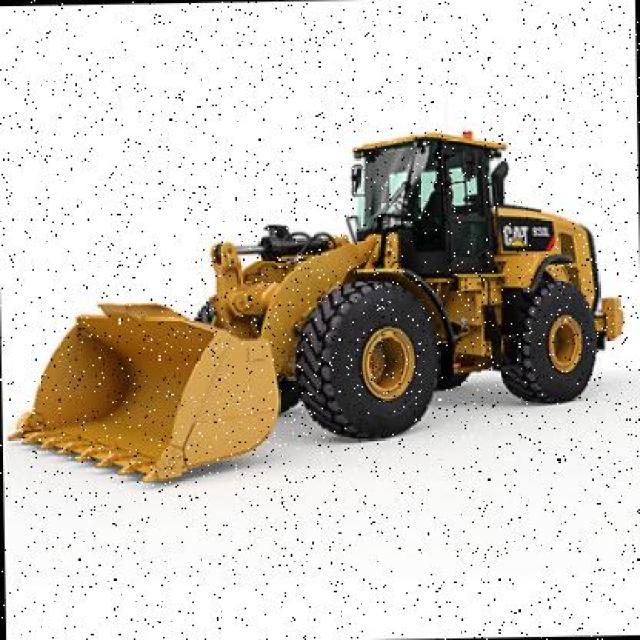buldozerpayloadergrader: (0, 114, 628, 491)
